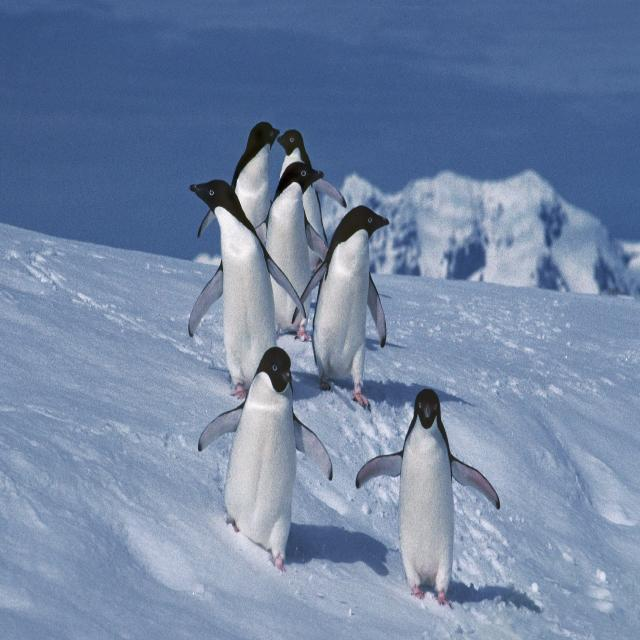Penguins: (194, 176, 278, 394), (228, 337, 300, 574), (310, 197, 389, 409), (391, 380, 463, 606), (266, 156, 324, 335), (229, 111, 278, 303), (275, 116, 312, 237)
